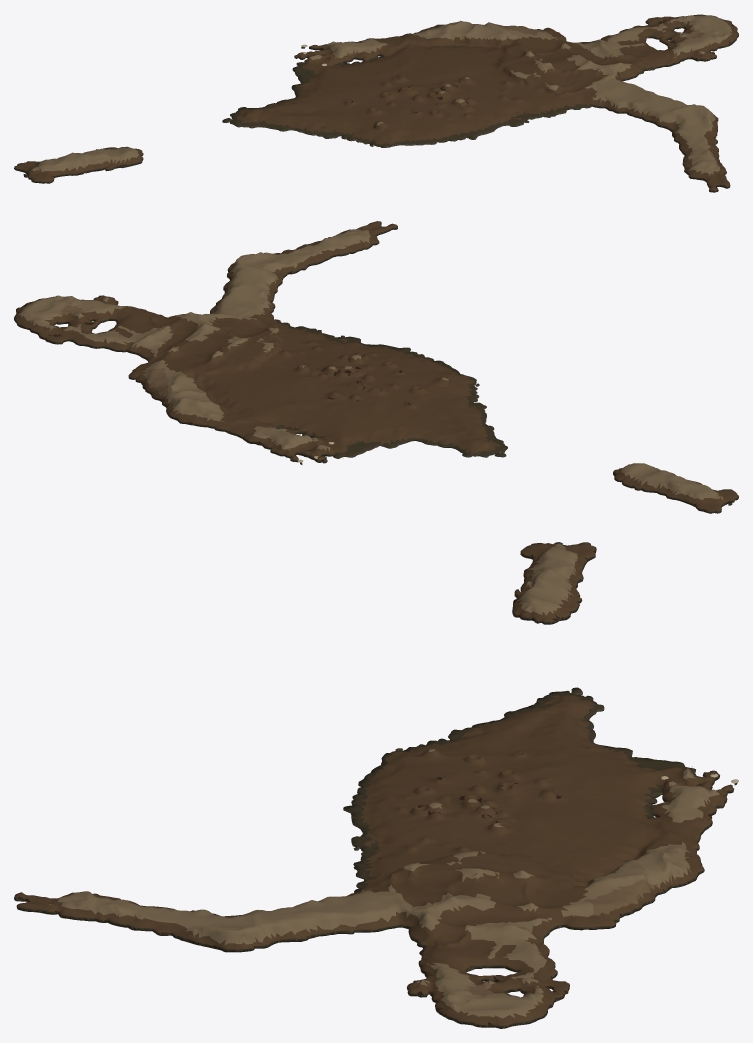
The model's file is skin_shed@1.glb.
3 renders of one model, top to bottom at view 1: azimuth 30°, elevation 25°; view 2: azimuth 150°, elevation 25°; view 3: azimuth 270°, elevation 25°, orthographic. The views are drawn at different scales.
Parts seen in each view (by area): view 1: geschmolzen; view 2: geschmolzen; view 3: geschmolzen.
Boxes of the visible parts, <box> form: geschmolzen: <box>14,14,738,192</box>; geschmolzen: <box>14,221,738,513</box>; geschmolzen: <box>14,542,737,1028</box>.
Bounding box in the file's own units: 2.12 × 0.044 × 1.34.
